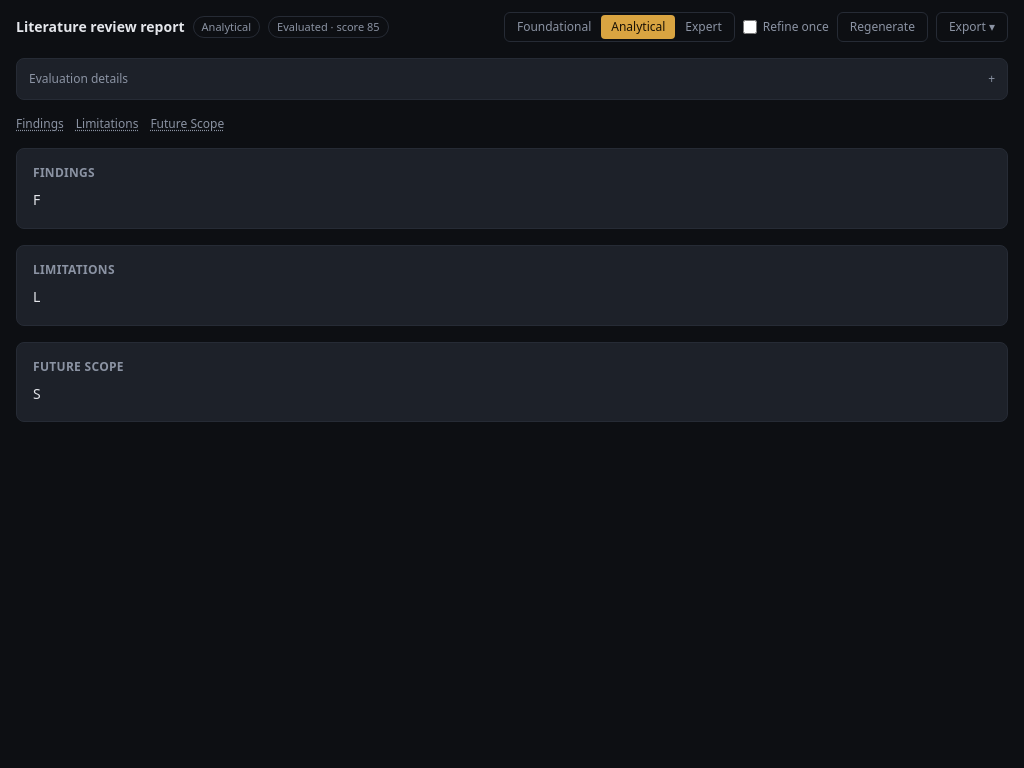
ReportModePanel -- report-quality Phase R4.2: evaluation details disclosure › renders section scores as separate rows, using real section titles when the key matches
The image size is (1024, 768).
Click the button with test id "evaluation-details-toggle" at point(79, 78), box [29,71,995,87]
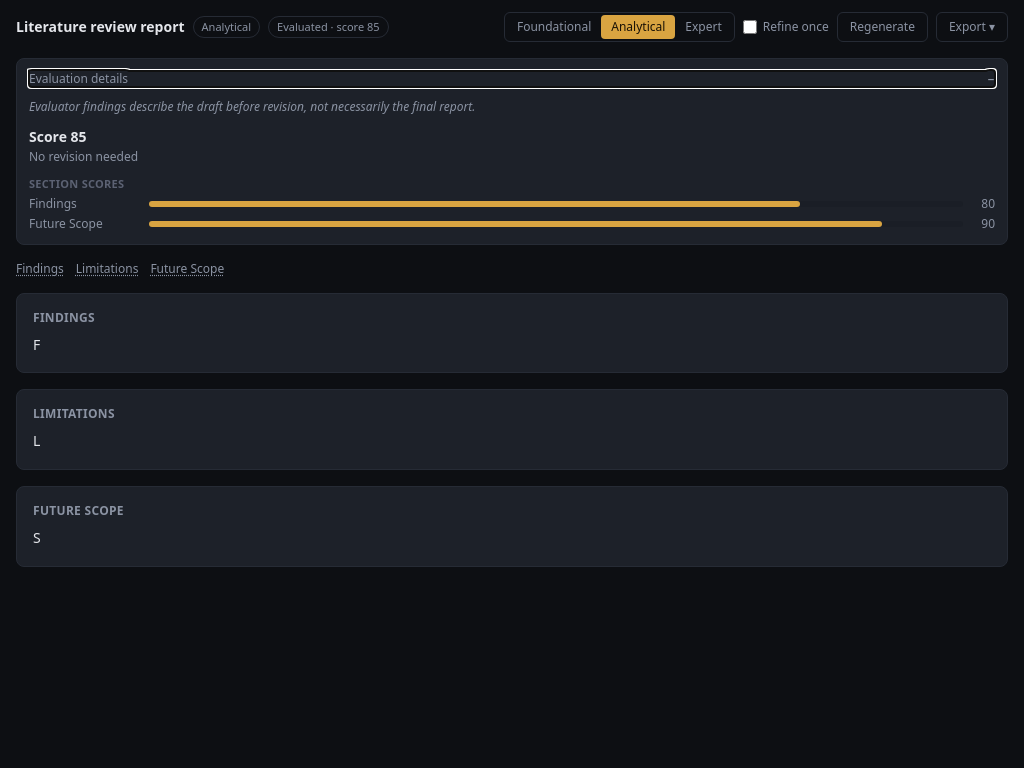
Result: the element with test id "evaluation-details-section-scores" shows "Section scores" at [29,176,124,191]
Result: the element with test id "evaluation-details-section-score-findings" shows "Findings" at [29,195,77,212]
Result: the element with test id "evaluation-details-section-score-findings" shows "80" at [981,195,995,212]
